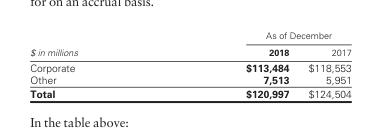table: (29, 29, 350, 99)
table column: (161, 29, 298, 99), (29, 29, 161, 99), (298, 29, 350, 99)
table column header: (29, 29, 350, 59)
table row: (29, 43, 350, 59), (29, 29, 350, 43), (29, 59, 350, 73), (29, 73, 350, 86), (29, 86, 350, 99)
table spanning cell: (29, 29, 161, 59), (161, 29, 350, 43)
